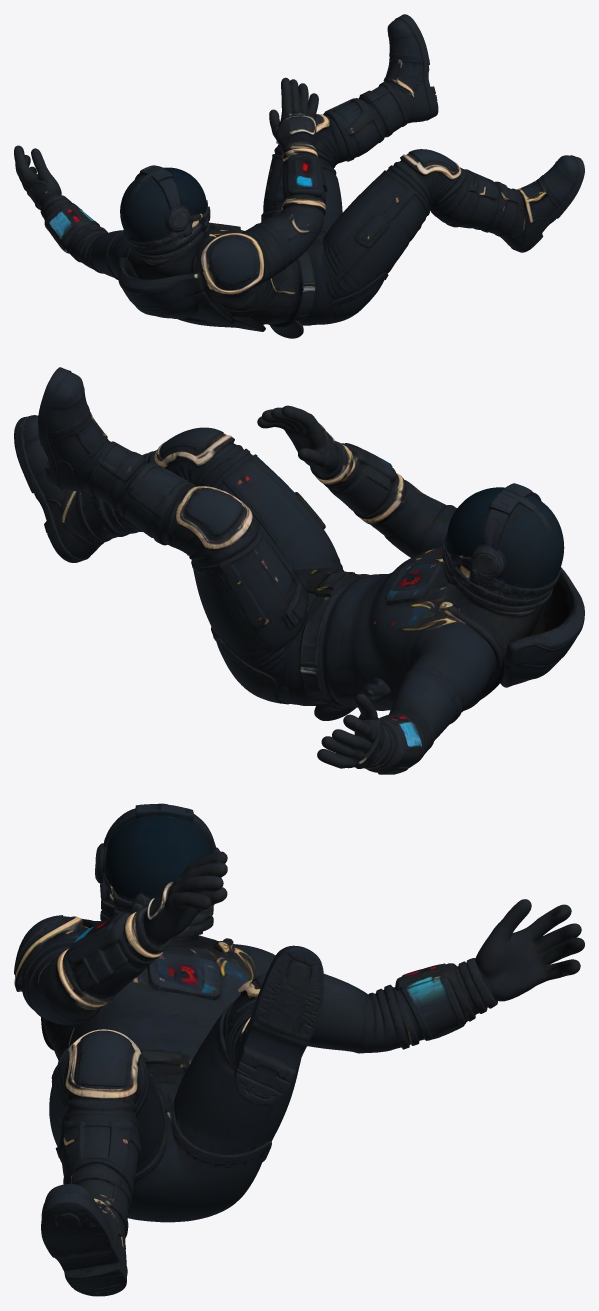
The model's file is spaceman-falling.glb.
3 views of the same model, one above another, from view 1: azimuth 30°, elevation 25°; view 2: azimuth 150°, elevation 25°; view 3: azimuth 270°, elevation 25° (orthographic). The views are drawn at different scales.
Visible parts, largest first — view 1: material; view 2: material; view 3: material.
Boxes of the visible parts, x1,y1,x2,y2 form: material: (14, 14, 584, 338); material: (14, 367, 584, 774); material: (14, 803, 584, 1296).
Size of the model in its own units: 1.02 by 0.5475 by 0.7457.
Materials: 1 (1 with a texture image).
